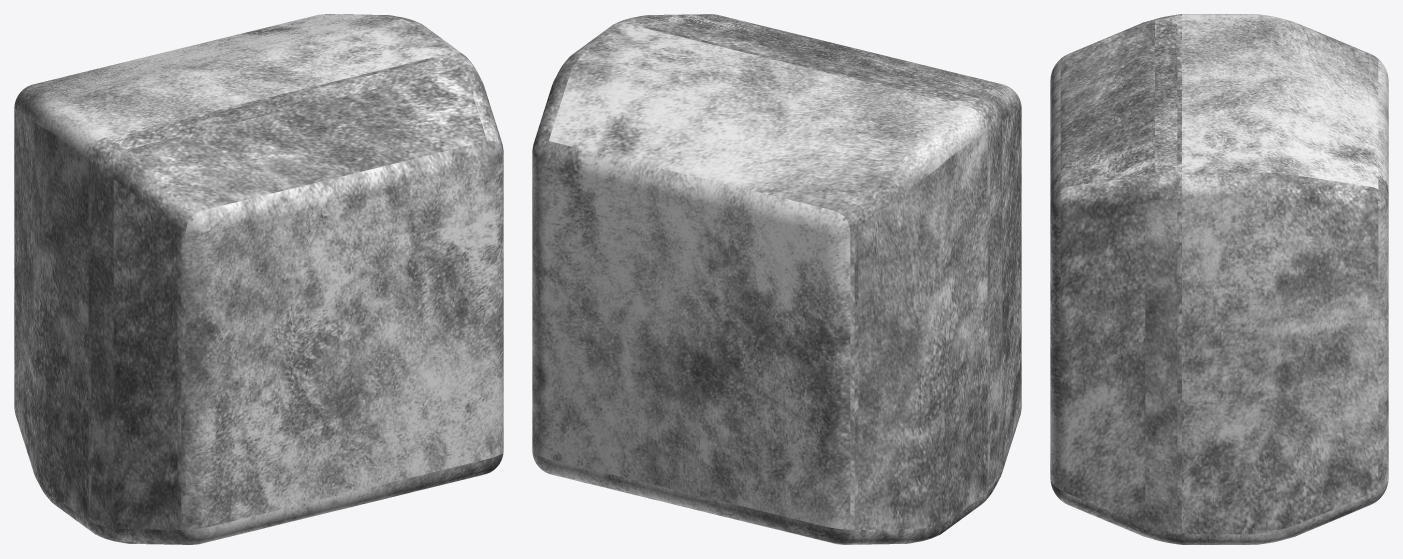
3 renders of one model, left to right at view 1: azimuth 30°, elevation 25°; view 2: azimuth 150°, elevation 25°; view 3: azimuth 270°, elevation 25°, orthographic. The views are drawn at different scales.
Parts seen in each view (by area): view 1: Cube; view 2: Cube; view 3: Cube.
Boxes of the visible parts, x1,y1,x2,y2 form: Cube: [14, 14, 503, 544]; Cube: [532, 14, 1021, 544]; Cube: [1050, 14, 1388, 544].
Size of the model in its own units: 2.42 by 2.42 by 2.
1 material, 1 textured.
